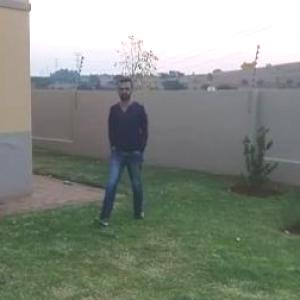follow: (102, 76, 150, 214)
